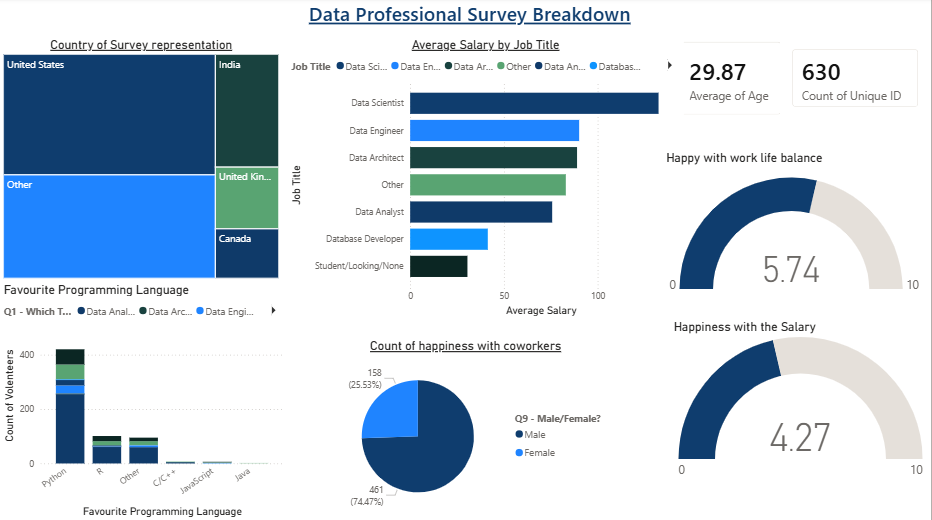

Layout of this report page (visuals, bound fields, positions):
{"tool":"powerbi","page":{"name":"Page 1","canvas":[1280,720],"ordinal":0},"visuals":[{"type":"textbox","box":[9.6,0,1270.7,54.9],"z":0},{"type":"cardVisual","title":"Average or Survey Takers","fields":{"Data":["Avg(Data Professional Survey.Q10 - Current Age)"]},"box":[917.5,44.7,173.5,134],"z":2},{"type":"barChart","title":"Average Salary by Job Title","fields":{"Category":["Data Professional Survey.Q1 - Which Title Best Fits your Current Role?.1"],"Y":["Avg(Data Professional Survey.Average Salary)"],"Series":["Data Professional Survey.Q1 - Which Title Best Fits your Current Role?.1"]},"box":[395.2,55,544.6,388.3],"z":3},{"type":"columnChart","title":"Favourite Programming Language","fields":{"Category":["Data Professional Survey.Q5 - Favorite Programming Language.1"],"Y":["CountNonNull(Data Professional Survey.Unique ID)"],"Series":["Data Professional Survey.Q1 - Which Title Best Fits your Current Role?.1"]},"box":[0,391.7,395.2,328.2],"z":4},{"type":"cardVisual","fields":{"Data":["Count(Data Professional Survey.Unique ID)"]},"box":[1072.1,55,207.9,113.4],"z":5},{"type":"treemap","title":"Country of Survey representation","fields":{"Group":["Data Professional Survey.Q11 - Which Country do you live in?.1"],"Values":["CountNonNull(Data Professional Survey.Q11 - Which Country do you live in?.1)"]},"box":[0,55,388.3,336.8],"z":6},{"type":"gauge","title":"Happy with work life balance","fields":{"Y":["Avg(Data Professional Survey.Q6 - How Happy are you in your Current Position with the following? (Work/Life Balance))"],"MaxValue":["Max(Data Professional Survey.Q6 - How Happy are you in your Current Position with the following? (Work/Life Balance))1"],"MinValue":["Min(Data Professional Survey.Q6 - How Happy are you in your Current Position with the following? (Work/Life Balance))"]},"box":[910.6,211.3,362.5,213],"z":7},{"type":"gauge","title":"Happiness with the Salary","fields":{"Y":["Avg(Data Professional Survey.Q6 - How Happy are you in your Current Position with the following? (Salary))"],"MinValue":["Min(Data Professional Survey.Q6 - How Happy are you in your Current Position with the following? (Salary))"],"MaxValue":["Max(Data Professional Survey.Q6 - How Happy are you in your Current Position with the following? (Salary))"]},"box":[920.9,443.3,359.1,228.5],"z":8},{"type":"pieChart","title":"Count of happiness with coworkers","fields":{"Category":["Data Professional Survey.Q9 - Male/Female?"],"Y":["CountNonNull(Data Professional Survey.Q6 - How Happy are you in your Current Position with the following? (Coworkers))"]},"box":[436.4,469,407.2,250.8],"z":9}]}

Visuals, with their boxes in screenshot pixels (x1, y1, x2, y2), scaled from the page's 1280x720 canvas onto the 932x520 screenshot:
textbox: 7,0,931,40
"Average or Survey Takers" cardVisual: 668,32,794,129
"Average Salary by Job Title" barChart: 288,40,684,320
"Favourite Programming Language" columnChart: 0,283,288,519
cardVisual - Count(Data Professional Survey.Unique ID): 781,40,931,122
"Country of Survey representation" treemap: 0,40,283,283
"Happy with work life balance" gauge: 663,153,927,306
"Happiness with the Salary" gauge: 671,320,931,485
"Count of happiness with coworkers" pieChart: 318,339,614,519
